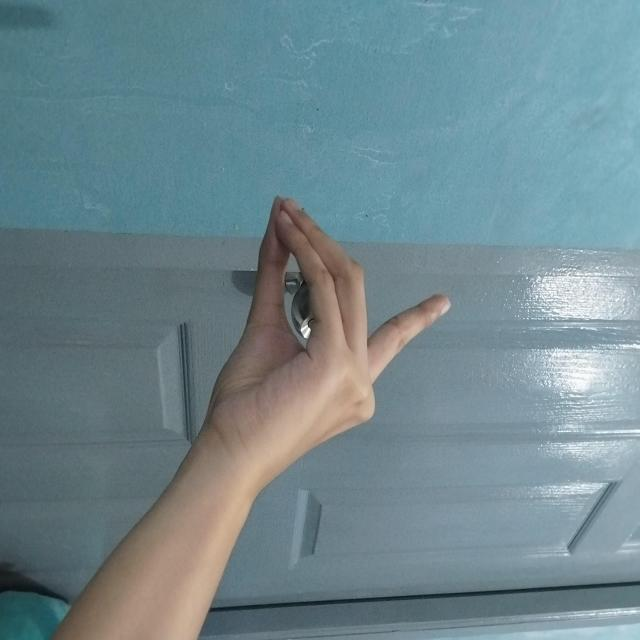D: (194, 184, 459, 426)
